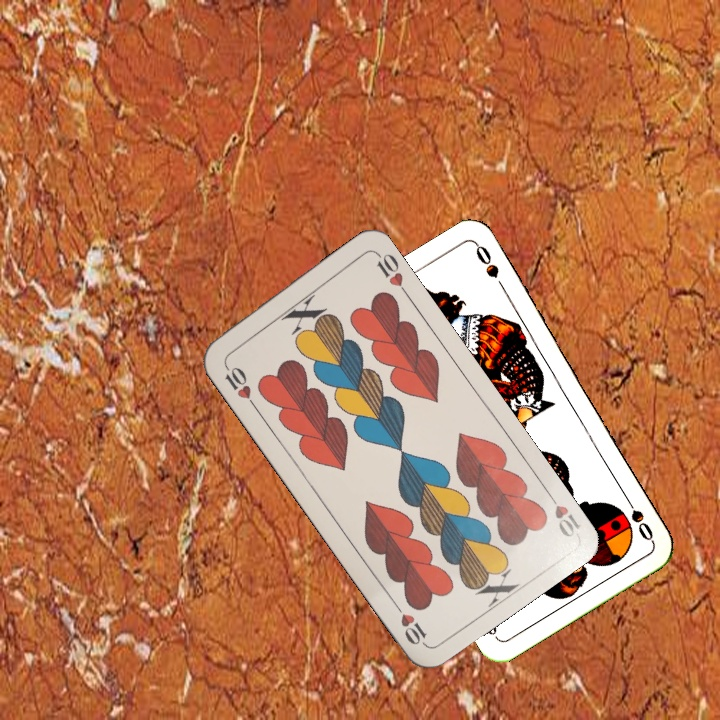H10: (542, 486, 583, 540), (219, 358, 259, 410)
SO: (619, 490, 656, 544)
